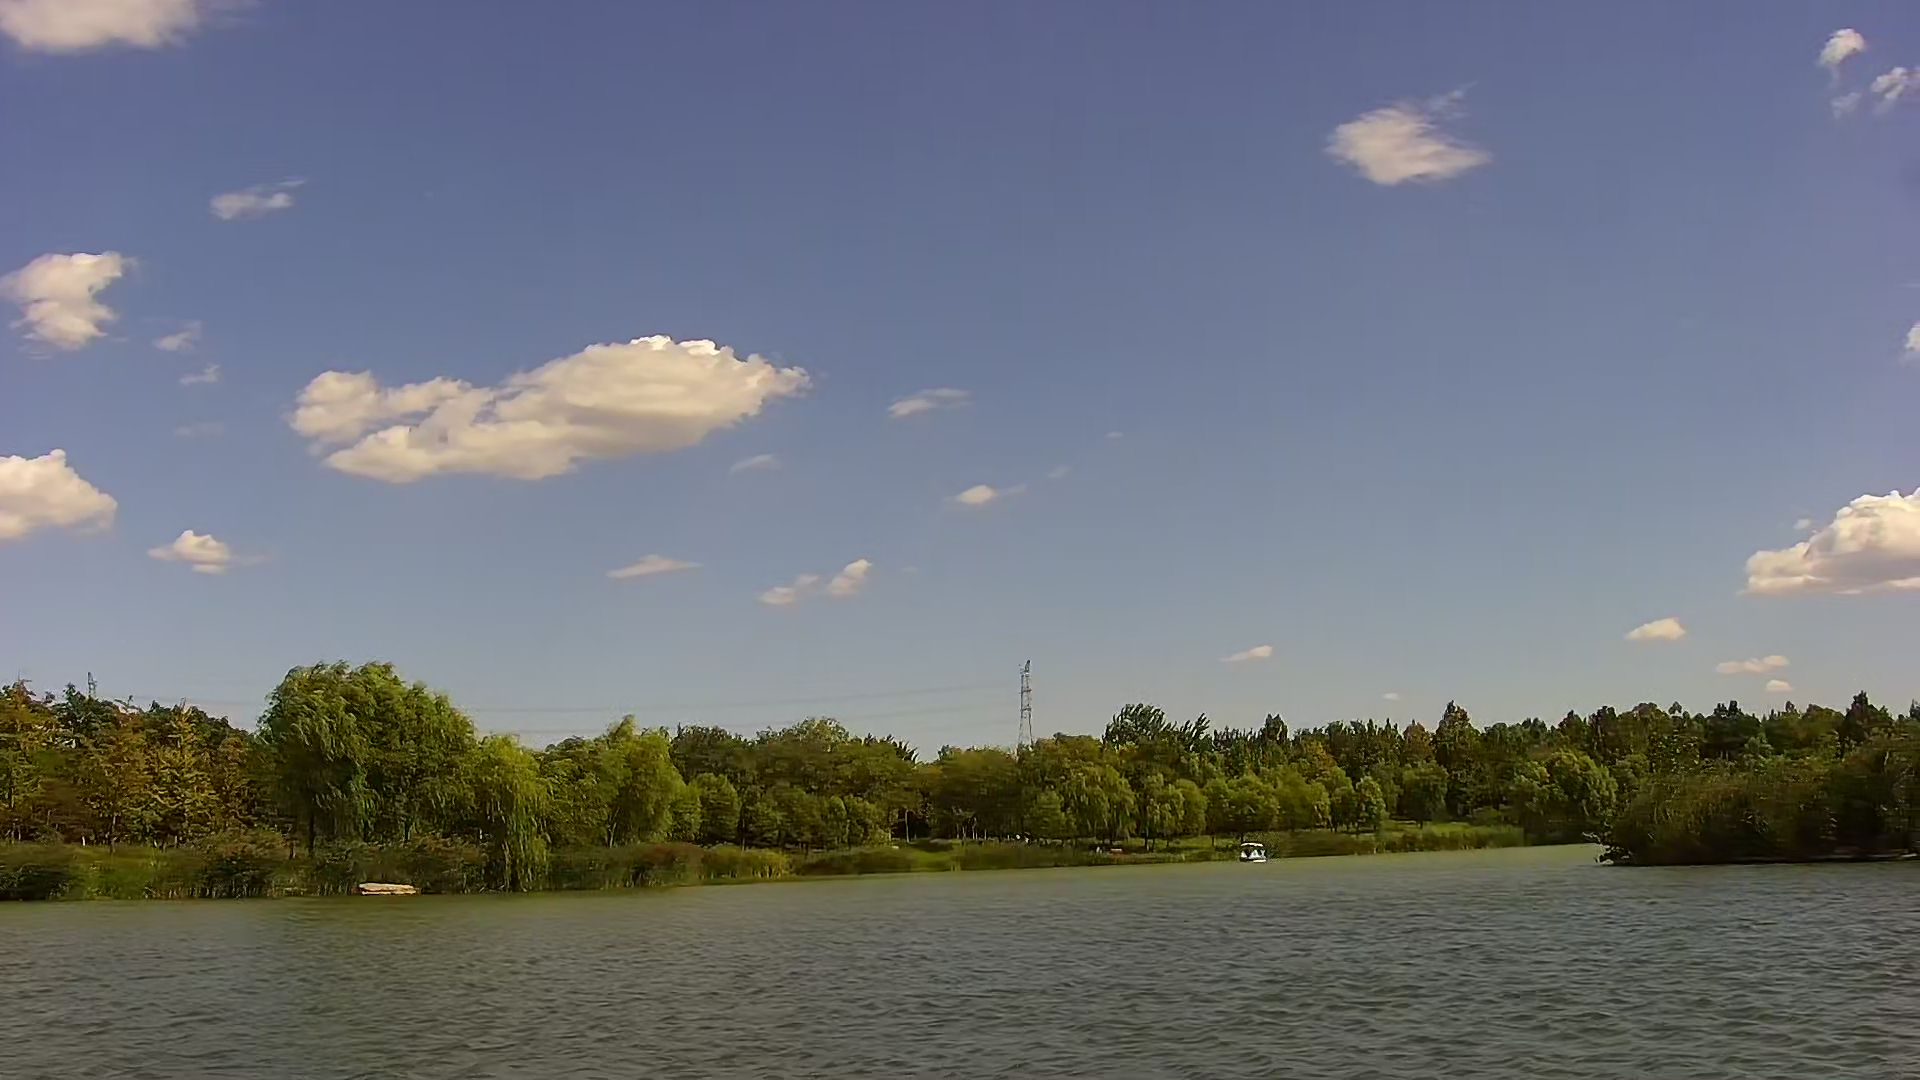boat: (1240, 837, 1263, 865)
rock: (357, 876, 409, 899)
